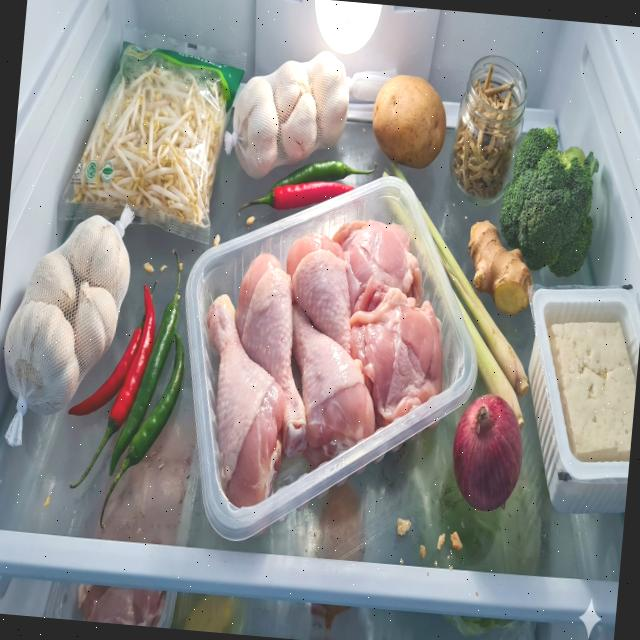bean_sprouts: (68, 53, 235, 234)
brocolli: (496, 122, 602, 278)
chicken: (188, 203, 456, 524)
chili: (58, 238, 196, 536), (236, 150, 378, 230)
garlic: (0, 205, 135, 423), (228, 42, 354, 187)
ginger: (462, 217, 539, 318)
lemongrass: (361, 164, 548, 432)
onion: (446, 388, 528, 516)
potato: (368, 70, 450, 171)
tofu: (539, 314, 640, 465)
